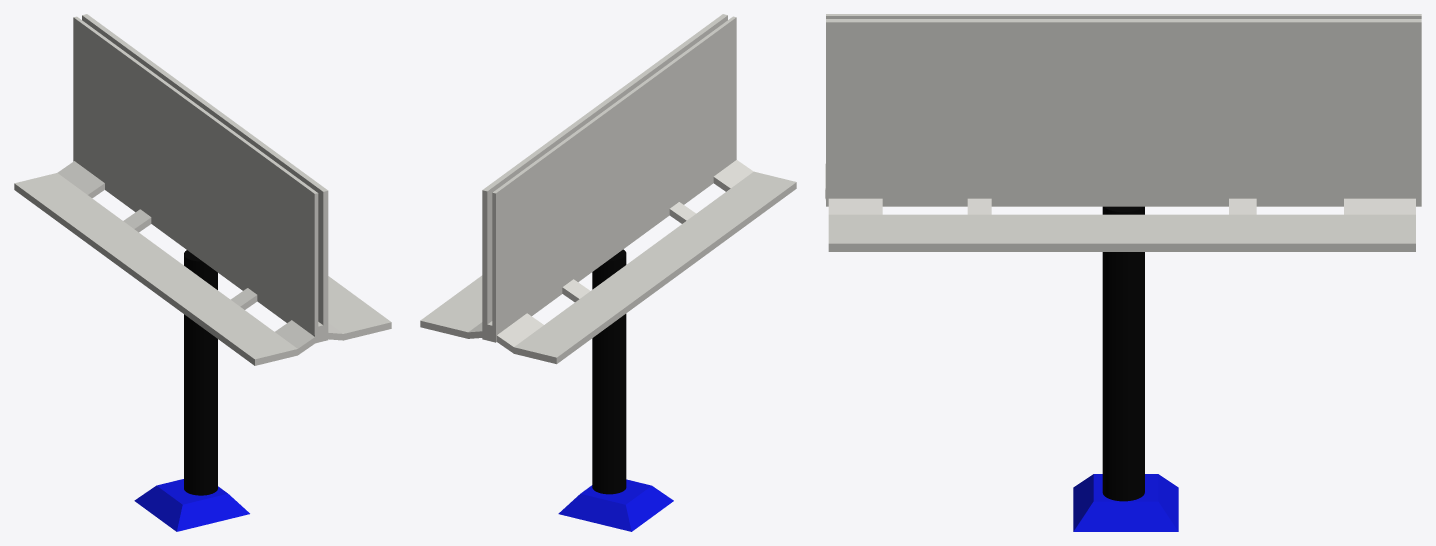
File: mainSign.glb
The picture shows the model from 3 angles, left to right: view 1: azimuth 30°, elevation 25°; view 2: azimuth 150°, elevation 25°; view 3: azimuth 270°, elevation 25°; orthographic projection. The views are drawn at different scales.
Parts seen in each view (by area): view 1: Cube, Cylinder, Cube.001; view 2: Cube, Cylinder, Cube.001; view 3: Cube, Cylinder, Cube.001.
Boxes of the visible parts, <box> form: Cube: <box>14,14,391,365</box>; Cylinder: <box>184,250,217,495</box>; Cube.001: <box>134,479,249,531</box>; Cube: <box>420,14,796,364</box>; Cylinder: <box>592,249,626,494</box>; Cube.001: <box>558,479,673,531</box>; Cube: <box>825,14,1421,251</box>; Cylinder: <box>1102,206,1144,501</box>; Cube.001: <box>1073,474,1178,531</box>.
Size of the model in its own units: 2.58 by 7.18 by 7.81.
